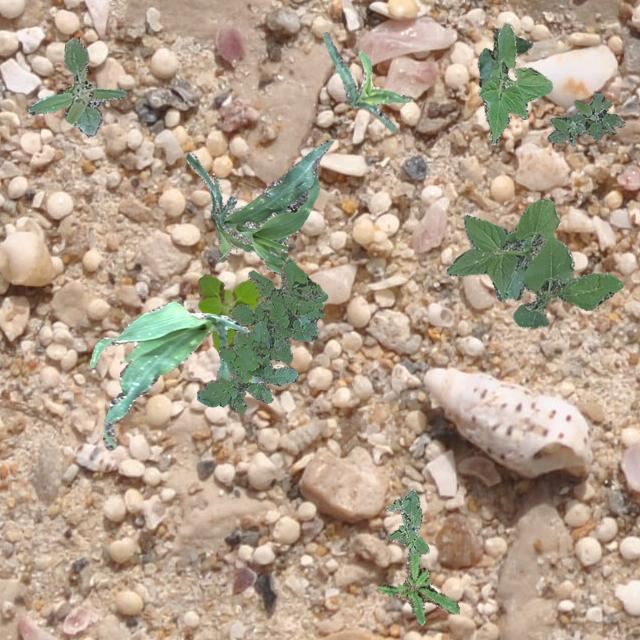crop: (89, 300, 262, 450), (185, 139, 332, 273), (476, 21, 552, 142), (322, 31, 408, 130), (476, 28, 532, 86)
weed: (446, 198, 622, 326), (196, 256, 326, 412), (28, 36, 126, 136), (376, 550, 458, 624), (196, 274, 262, 350), (546, 90, 624, 146), (384, 488, 428, 554)
